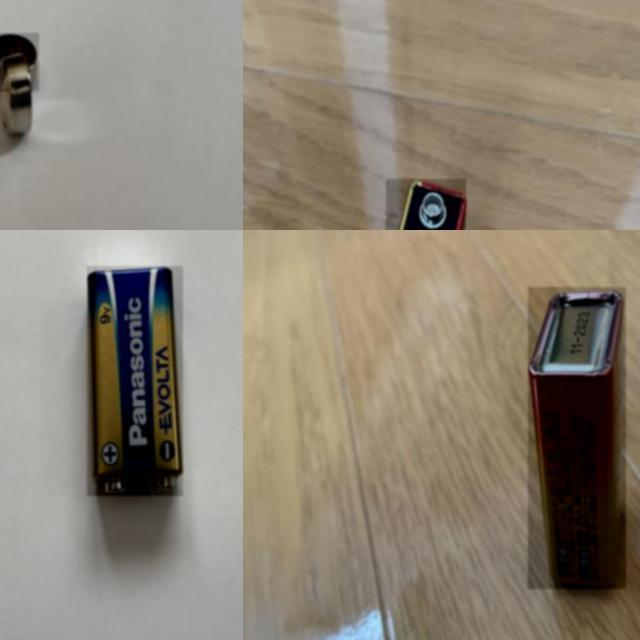9V: (528, 288, 626, 590), (87, 267, 183, 497), (386, 179, 466, 230)
